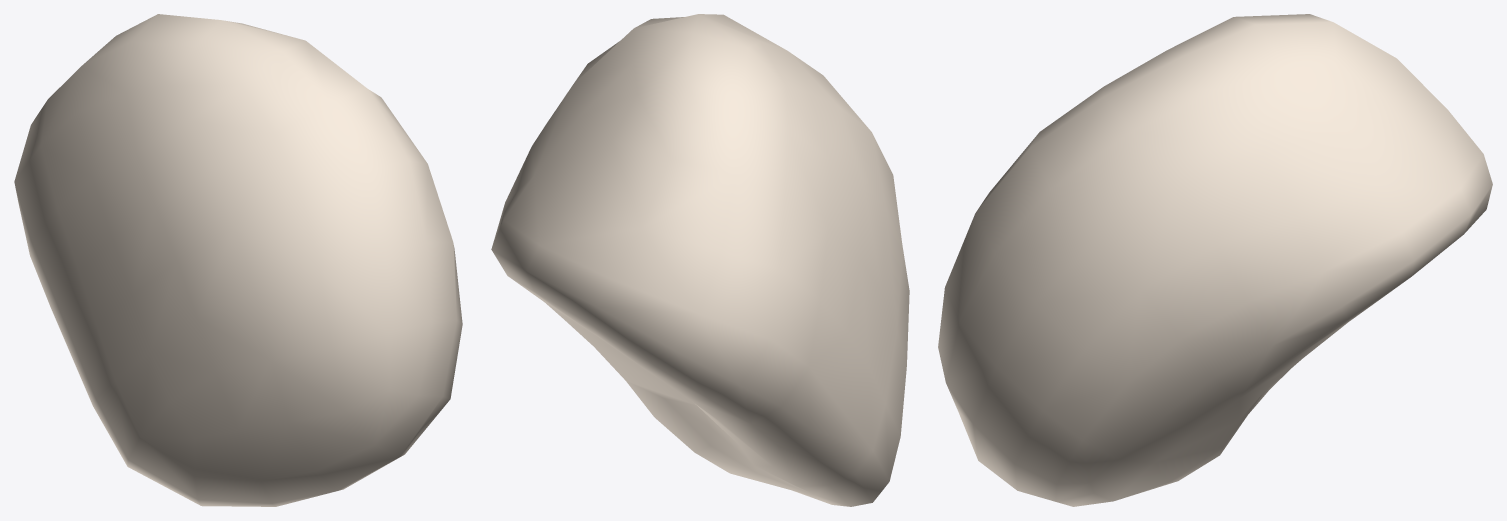
The model's file is left_pisiform.glb.
The picture shows the model from 3 angles, left to right: view 1: azimuth 30°, elevation 25°; view 2: azimuth 150°, elevation 25°; view 3: azimuth 270°, elevation 25°; orthographic projection. The views are drawn at different scales.
Parts seen in each view (by area): view 1: Pisiform.r; view 2: Pisiform.r; view 3: Pisiform.r.
Part boxes in pixels (bbox=[...]): Pisiform.r: bbox=[14, 14, 462, 506]; Pisiform.r: bbox=[491, 14, 909, 506]; Pisiform.r: bbox=[938, 14, 1492, 506].
Bounding box in the file's own units: 0.0081 × 0.0108 × 0.0113.
